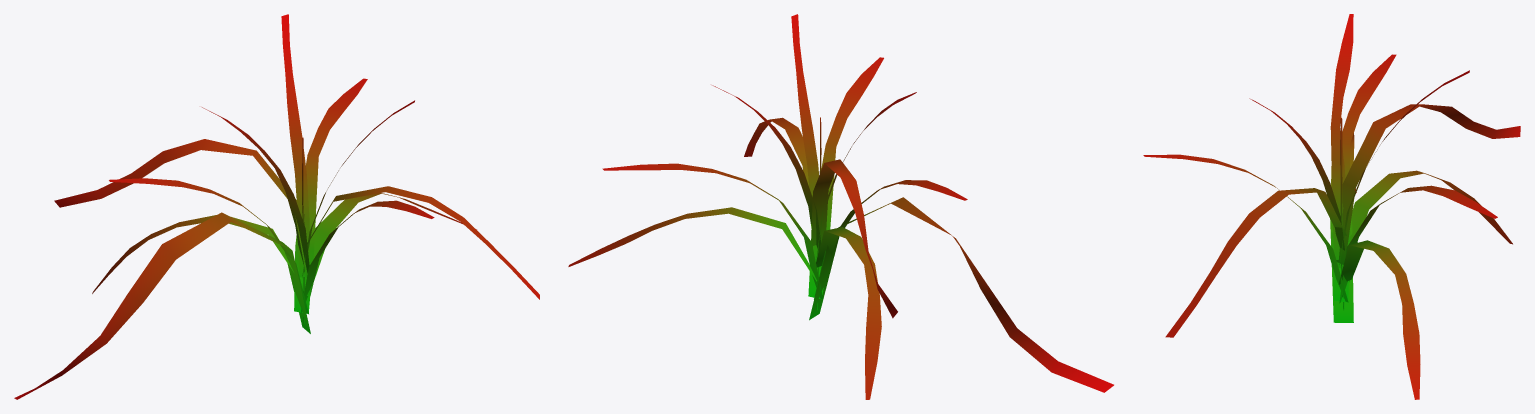
Rendered from Var9_LOD1.fbx.
3 renders of one model, left to right at view 1: azimuth 30°, elevation 25°; view 2: azimuth 150°, elevation 25°; view 3: azimuth 270°, elevation 25°, orthographic. The views are drawn at different scales.
Parts seen in each view (by area): view 1: _36ae_Var9_LOD1; view 2: _36ae_Var9_LOD1; view 3: _36ae_Var9_LOD1.
Boxes of the visible parts, x1,y1,x2,y2 form: _36ae_Var9_LOD1: (14,14,539,399); _36ae_Var9_LOD1: (568,14,1113,399); _36ae_Var9_LOD1: (1143,14,1520,399).
Bounding box in the file's own units: 40.87 × 20.63 × 25.95.
